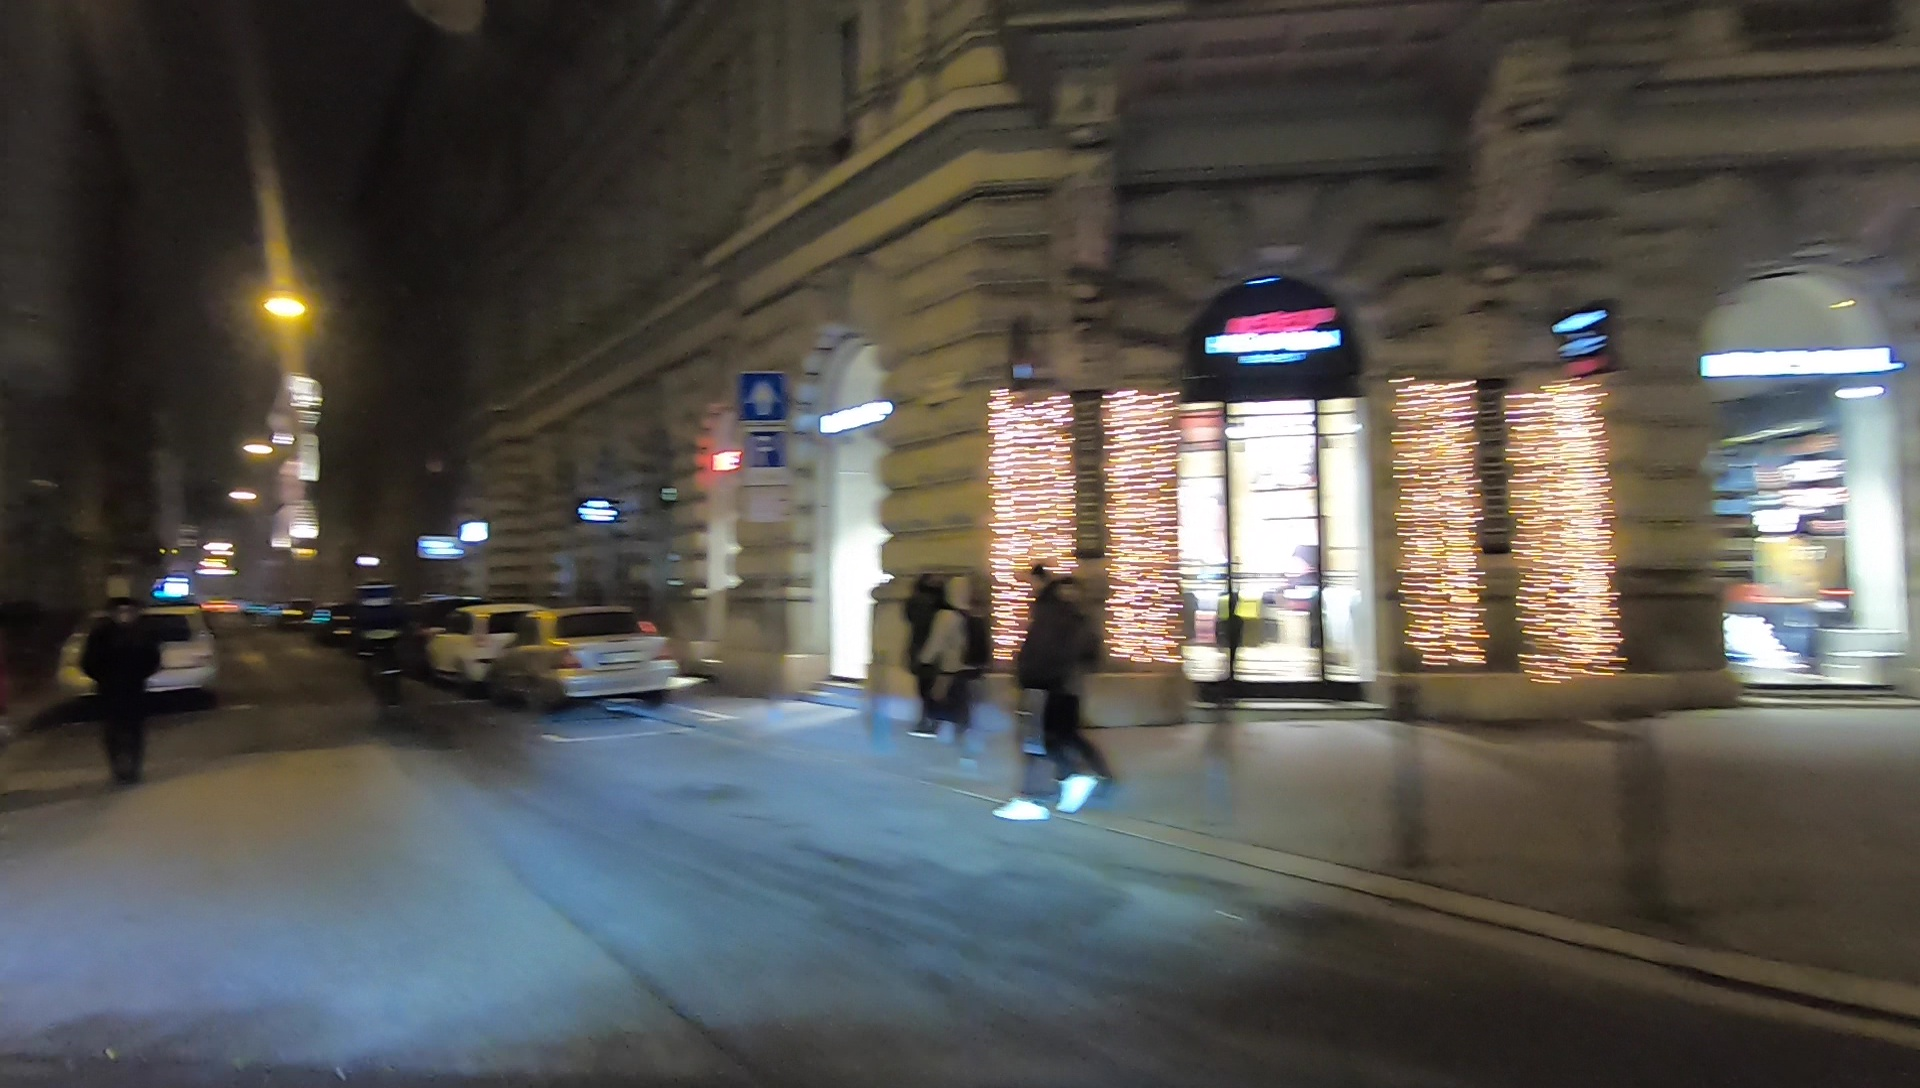person: (999, 569, 1095, 828), (86, 584, 165, 784), (923, 578, 997, 771)
